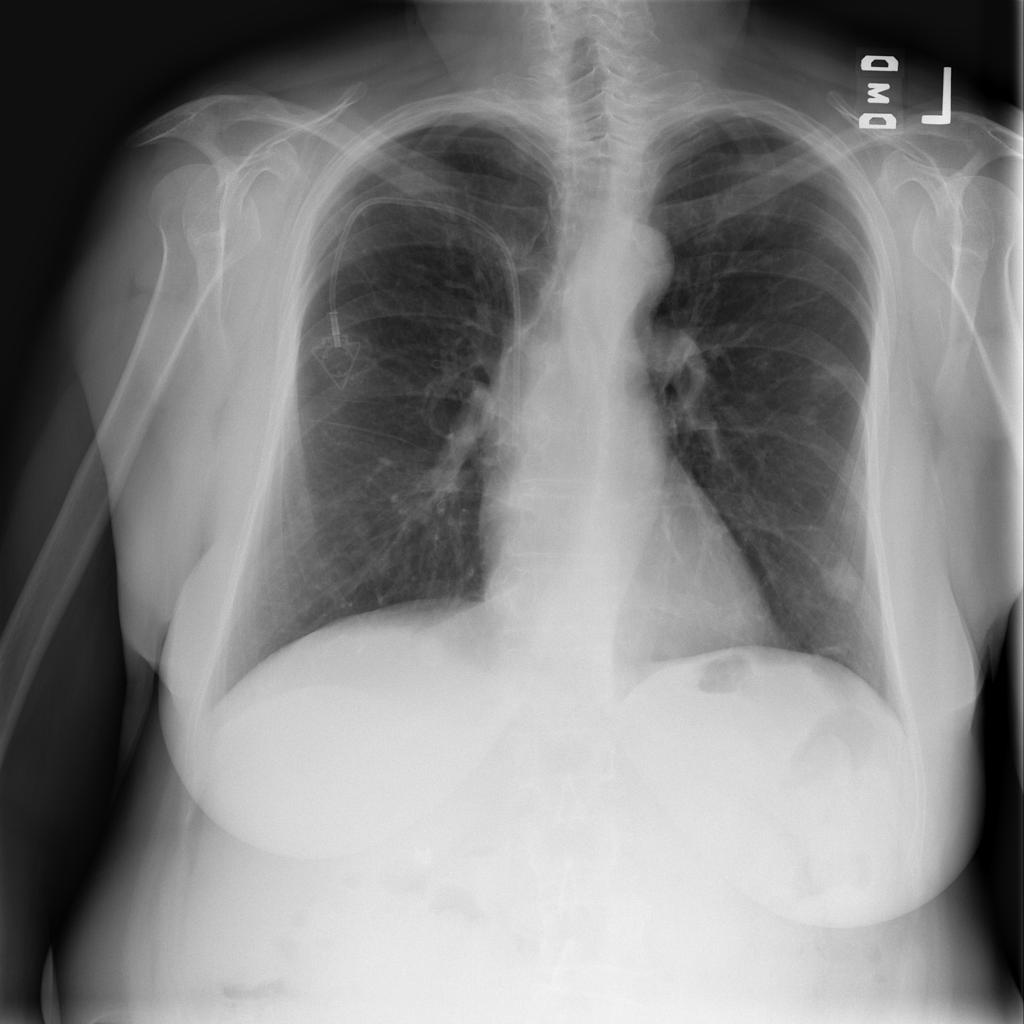nodule: (778, 342, 860, 439), (807, 542, 874, 618)
